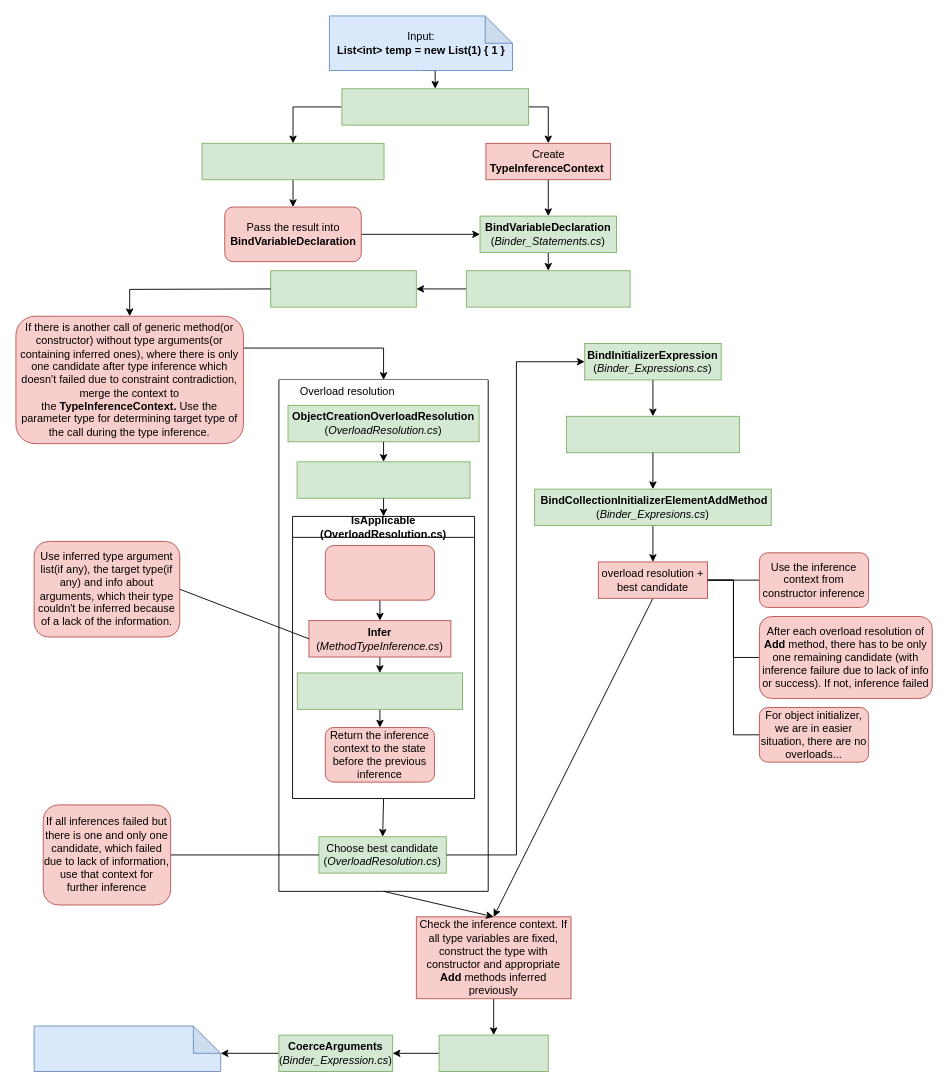
The diagram is 948 pixels wide and 1087 high, and some of its shapes have lost their labels. The shapes that lost their labels are listed below. From the top down, each one's centre as x and y in pixels, then its label:
At point 434,106: "BindLocalDeclarationStatement ( Binder_Statements.cs )".
At point 292,161: "BindVariableTypeWithAnnotations ( Binder_Statements.cs )".
At point 343,288: "BindArgumentsAndNames ( Binder_Expressions.cs )".
At point 547,288: "BindClassCreationExpression ( Binder_Expressions.cs )".
At point 652,434: "BindCollectionInitializerElement ( Binder_Expressions.cs )".
At point 383,479: "AddConstructorToCandidateSet ( OverloadResolution.cs )".
At point 379,572: "Use already created context, take a snapshot and try the inference".
At point 379,690: "CheckArgumentForApplicability ( OverloadResolutions.cs )".
At point 127,1048: "Output: BoundObjectCreationExpression".
At point 493,1053: "type checking".
